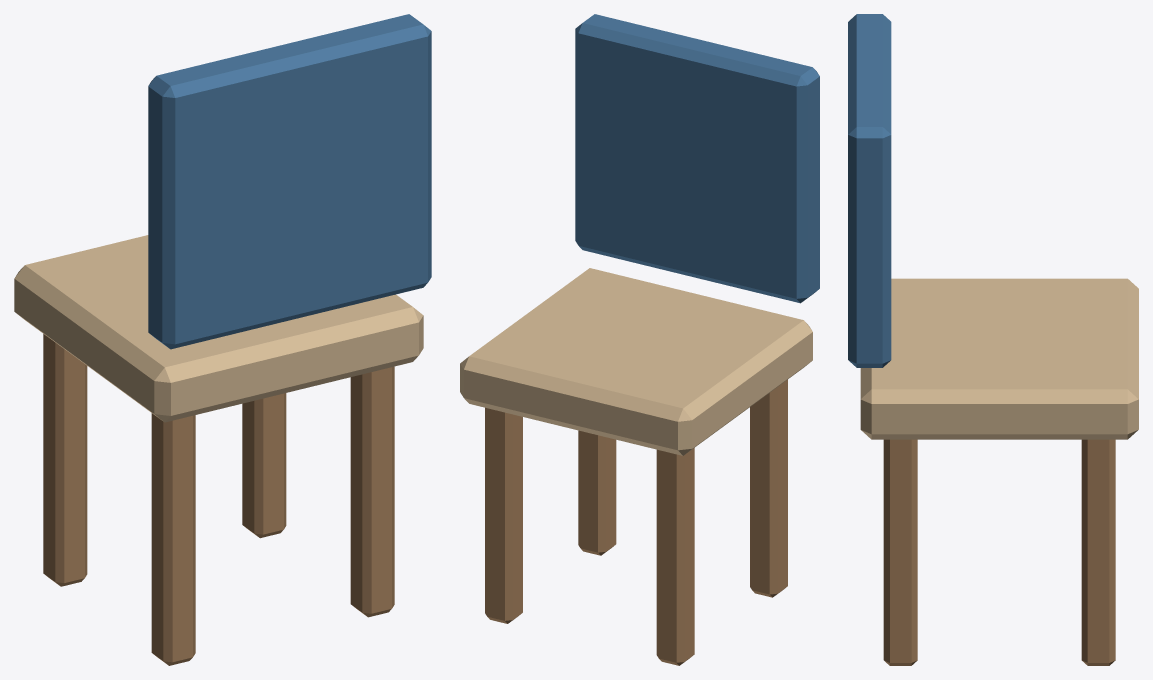
File: chair.glb
The picture shows the model from 3 angles, left to right: view 1: azimuth 30°, elevation 25°; view 2: azimuth 150°, elevation 25°; view 3: azimuth 270°, elevation 25°; orthographic projection. The views are drawn at different scales.
Parts seen in each view (by area): view 1: back, leg (×4), seat; view 2: back, seat, leg (×4); view 3: seat, leg (×2), back.
Boxes of the visible parts, x1,y1,x2,y2 form: back: [148, 14, 431, 349]; leg (×4): [43, 334, 394, 665]; seat: [14, 235, 423, 422]; back: [575, 14, 819, 303]; seat: [460, 268, 812, 455]; leg (×4): [485, 379, 787, 665]; seat: [860, 278, 1138, 439]; leg (×2): [883, 439, 1115, 665]; back: [848, 14, 891, 367].
Bounding box in the file's own units: 0.46 × 0.975 × 0.47.
